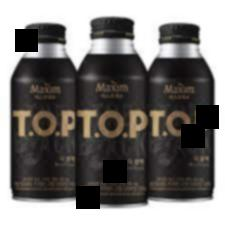TOP_black: (77, 13, 151, 208), (9, 22, 75, 202)
